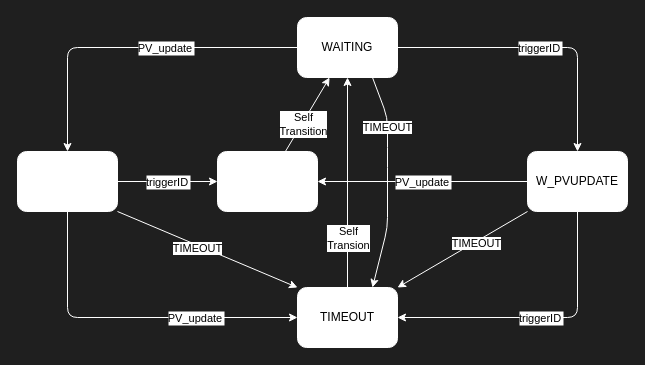
This 645x365 diagram has some shape labels left out. Here are the shapes that lost their labels. From the top down, the box of each, then its label:
(16, 150, 118, 212): W_TRIGGER
(216, 150, 318, 212): SAVING
